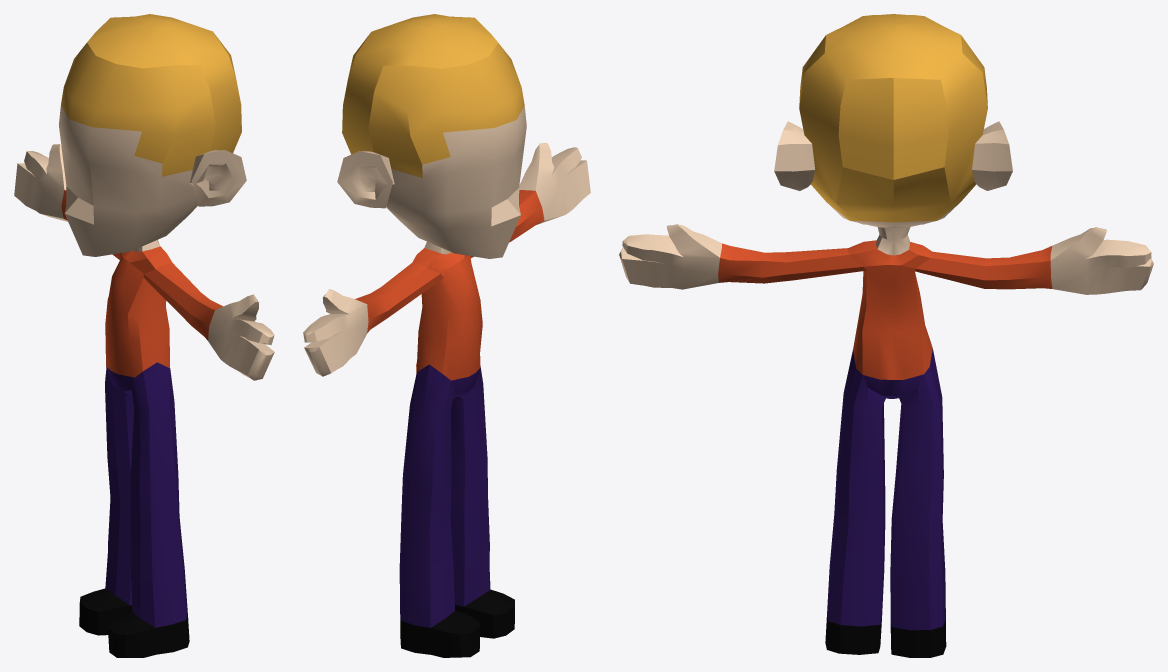
File: Men3.fbx
3 views of the same model, side by side, from view 1: azimuth 30°, elevation 25°; view 2: azimuth 150°, elevation 25°; view 3: azimuth 270°, elevation 25° (orthographic). The views are drawn at different scales.
Visible parts, largest first — view 1: Body; view 2: Body; view 3: Body.
Part boxes in pixels (x1,y1,x2,y2): Body: [14, 14, 274, 657]; Body: [303, 14, 590, 657]; Body: [619, 14, 1153, 657].
Size of the model in its own units: 391 by 147 by 505.
